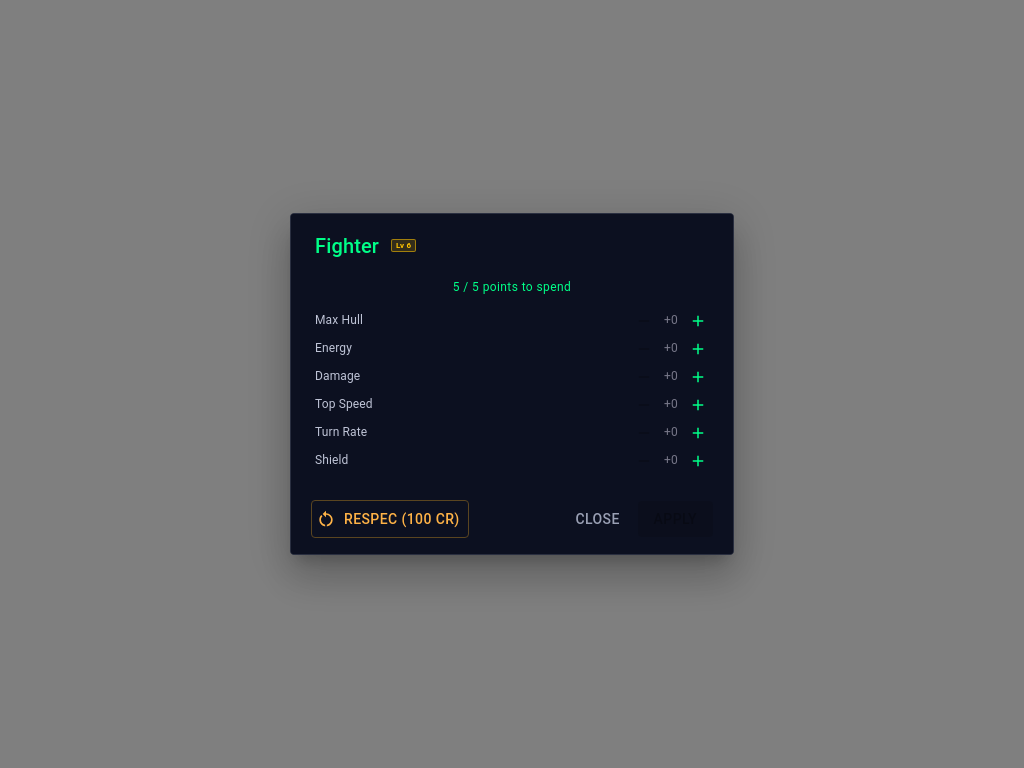
Test: UpgradeModal (Phase 4 WS-B2) › incrementing a stat spends a point + enables Apply
The image size is (1024, 768).
Click the button with test id "upgrade-inc-topSpeed".
click(698, 405)  # box [687,394,709,416]
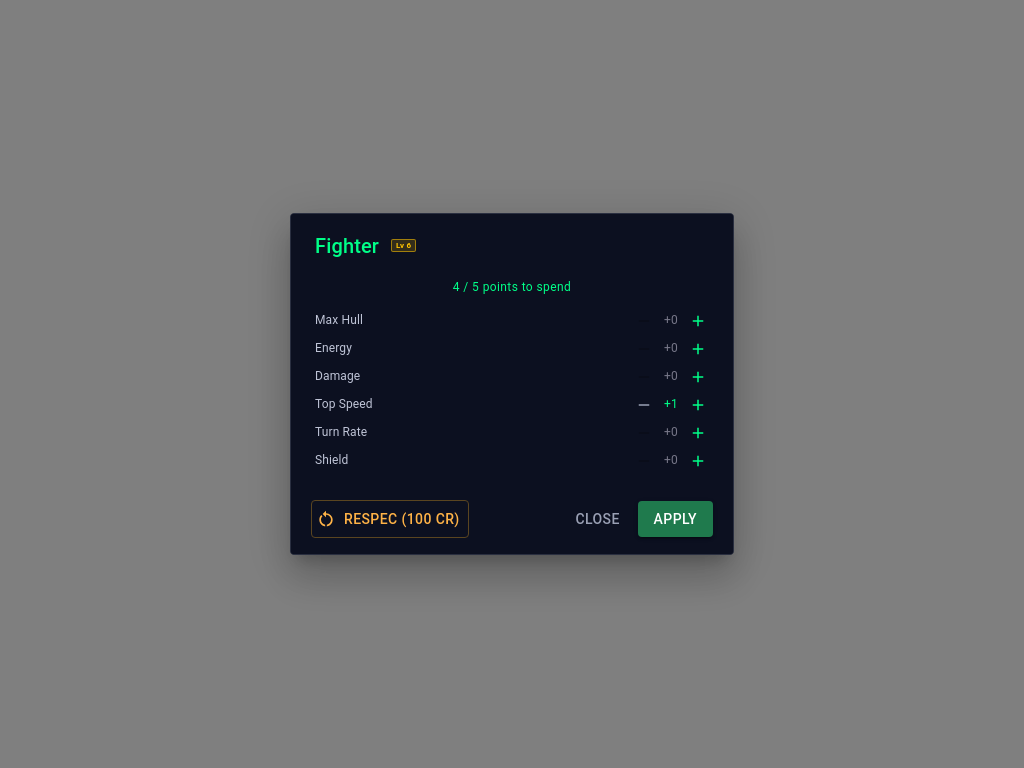
Now the button with test id "upgrade-apply" is enabled, box [638,501,713,537]
